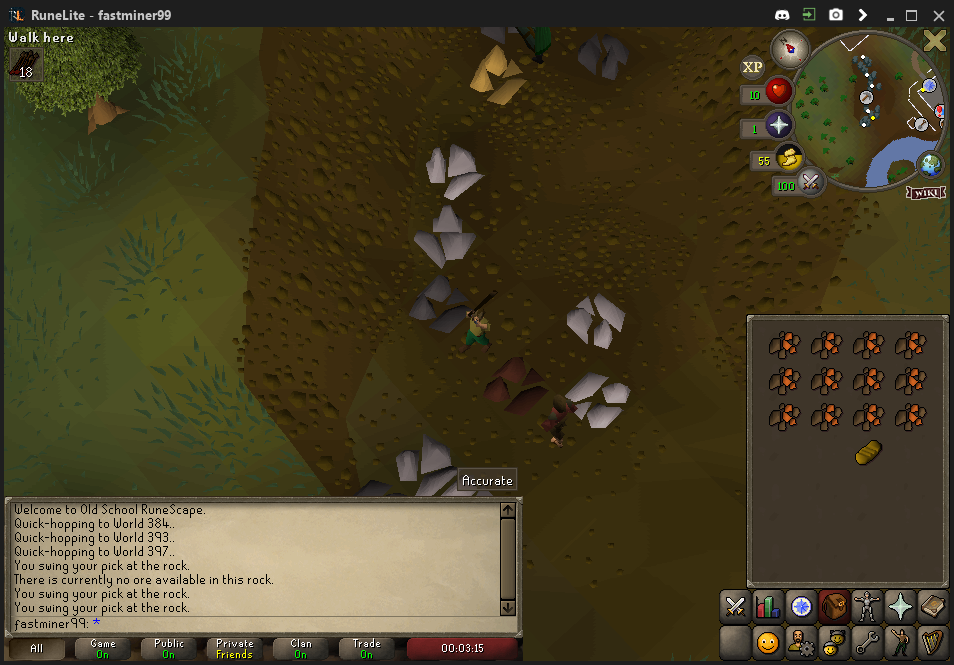depleted: (408, 277, 472, 334)
ore: (485, 359, 545, 415)
